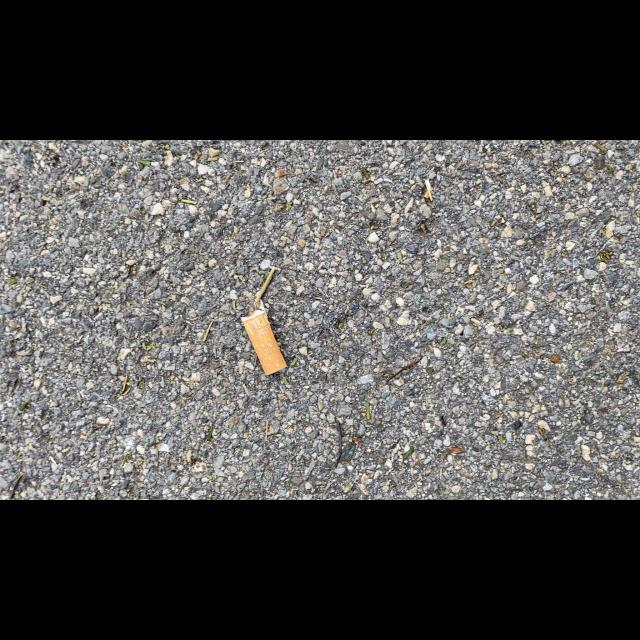cigarette: (239, 298, 288, 376)
